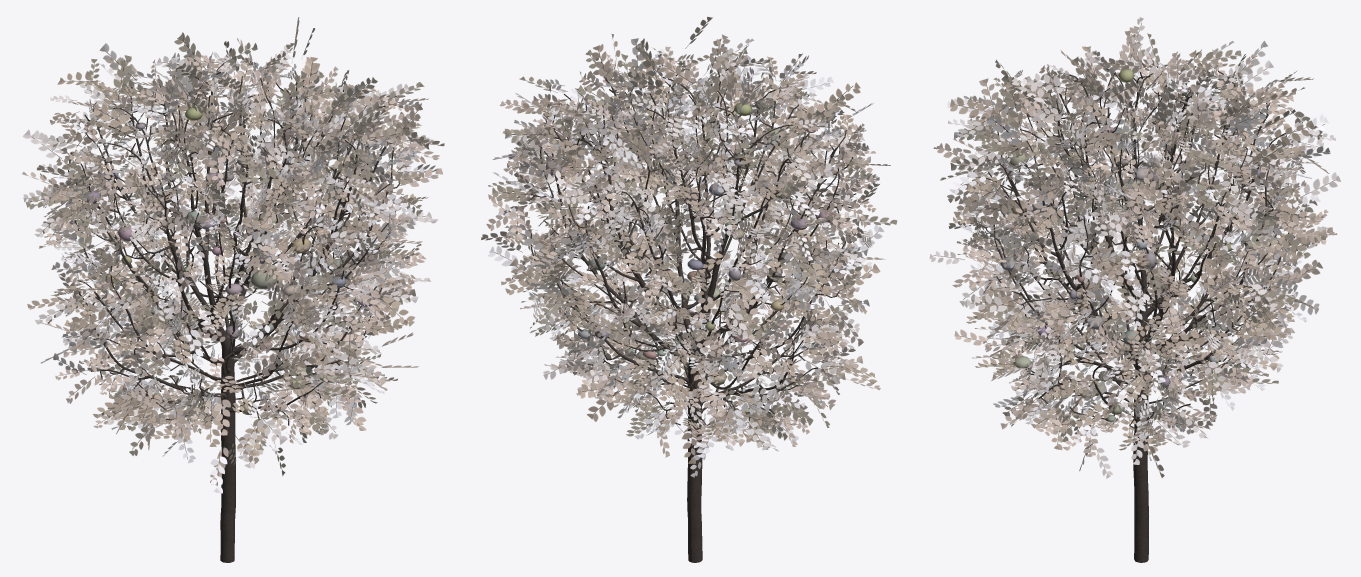
Rendered from tree_02_purple_plum.glb.
The picture shows the model from 3 angles, left to right: view 1: azimuth 30°, elevation 25°; view 2: azimuth 150°, elevation 25°; view 3: azimuth 270°, elevation 25°; orthographic projection.
Visible parts, largest first — view 1: tree_02_purple_plum.leaves, tree_02_purple_plum.trunk_branches, tree_02_purple_plum.foliage_volume; view 2: tree_02_purple_plum.leaves, tree_02_purple_plum.trunk_branches, tree_02_purple_plum.foliage_volume; view 3: tree_02_purple_plum.leaves, tree_02_purple_plum.trunk_branches, tree_02_purple_plum.foliage_volume.
Boxes of the visible parts, left/top/right/bottom form: tree_02_purple_plum.leaves: left=22, top=17, right=444, bottom=493; tree_02_purple_plum.trunk_branches: left=68, top=63, right=399, bottom=562; tree_02_purple_plum.foliage_volume: left=84, top=107, right=390, bottom=414; tree_02_purple_plum.leaves: left=481, top=16, right=897, bottom=477; tree_02_purple_plum.trunk_branches: left=529, top=65, right=856, bottom=562; tree_02_purple_plum.foliage_volume: left=542, top=100, right=833, bottom=415; tree_02_purple_plum.leaves: left=929, top=17, right=1340, bottom=478; tree_02_purple_plum.trunk_branches: left=979, top=64, right=1294, bottom=562; tree_02_purple_plum.foliage_volume: left=979, top=69, right=1265, bottom=421.
Size of the model in its own units: 8.34 by 10.84 by 7.86.
3 materials, 2 textured.
